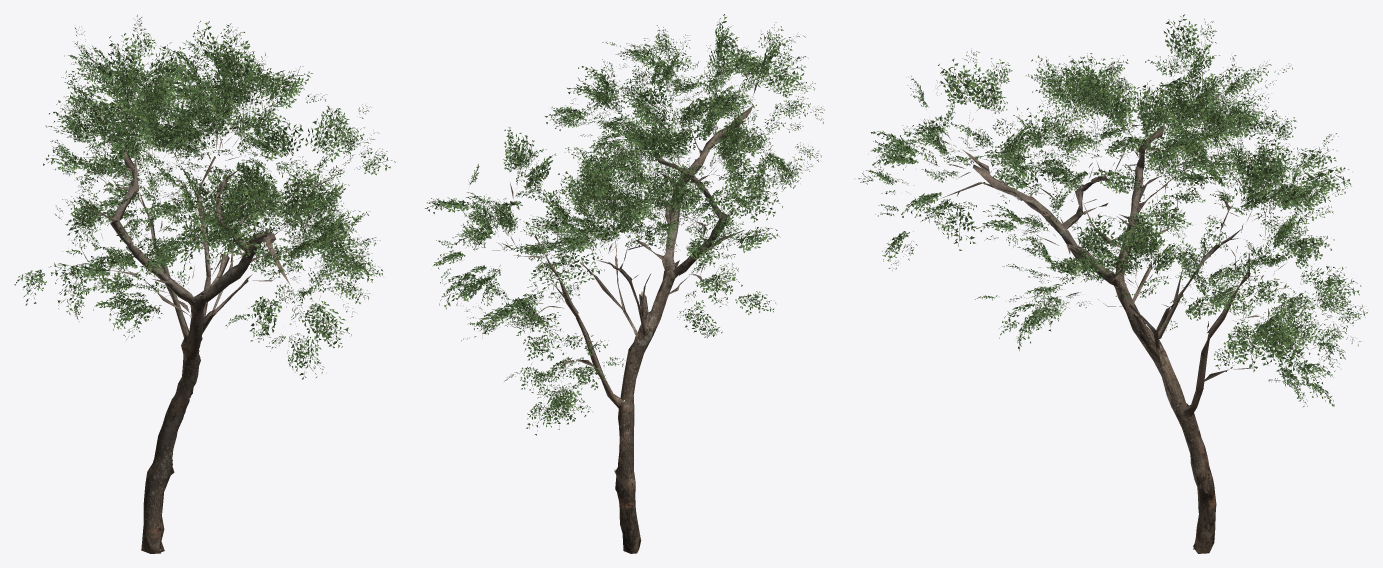
File: tree.glb
3 renders of one model, left to right at view 1: azimuth 30°, elevation 25°; view 2: azimuth 150°, elevation 25°; view 3: azimuth 270°, elevation 25°, orthographic. The views are drawn at different scales.
Parts seen in each view (by area): view 1: tree_small_02_LOD0; view 2: tree_small_02_LOD0; view 3: tree_small_02_LOD0.
Boxes of the visible parts, <box> form: tree_small_02_LOD0: <box>14,14,395,553</box>; tree_small_02_LOD0: <box>425,14,824,553</box>; tree_small_02_LOD0: <box>858,14,1367,553</box>.
Bounding box in the file's own units: 2.91 × 4.56 × 4.27.
3 materials, 3 textured.
